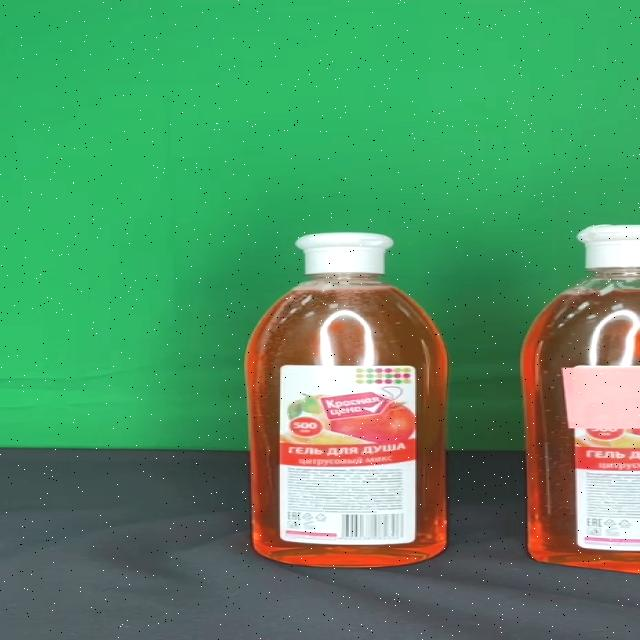Bottle: (243, 233, 450, 567)
Cap: (294, 233, 395, 275)
